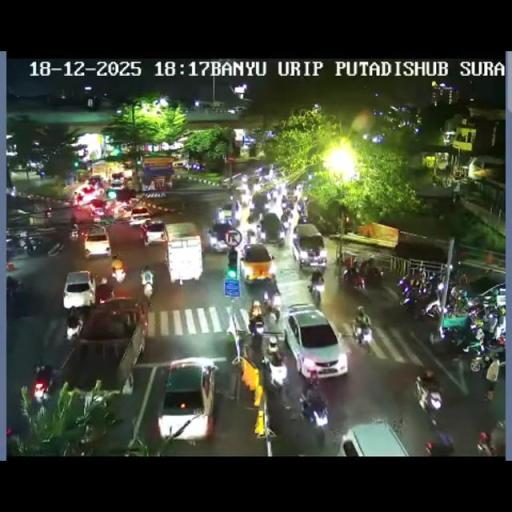Car: (67, 296, 147, 390), (156, 357, 216, 442), (282, 305, 348, 380), (335, 420, 412, 455), (164, 224, 202, 282), (290, 224, 325, 270), (239, 242, 276, 284), (62, 270, 96, 310), (142, 192, 186, 214), (31, 364, 56, 402), (207, 221, 236, 252), (82, 226, 110, 258), (142, 219, 168, 245), (108, 187, 138, 208), (216, 200, 236, 226), (129, 206, 152, 224), (89, 198, 108, 216), (285, 192, 298, 208), (88, 174, 102, 188), (172, 160, 188, 169), (110, 177, 123, 188)
Motorcycle: (435, 314, 476, 358), (400, 278, 438, 320), (465, 334, 504, 374), (463, 297, 503, 332), (300, 390, 330, 430), (414, 372, 442, 414), (278, 382, 304, 423), (64, 426, 94, 456), (424, 428, 456, 456), (262, 357, 286, 394), (351, 318, 374, 351), (342, 265, 365, 292), (447, 286, 469, 314), (234, 329, 252, 363), (307, 278, 324, 306), (6, 276, 22, 304), (489, 426, 505, 454), (94, 283, 114, 305), (6, 429, 22, 456), (248, 314, 265, 338), (408, 265, 425, 289), (66, 318, 82, 343), (266, 300, 282, 325), (6, 235, 23, 257), (452, 269, 470, 289), (306, 365, 321, 389), (24, 235, 40, 255), (142, 278, 154, 304), (472, 324, 486, 346), (279, 206, 293, 227), (246, 207, 262, 225), (238, 190, 252, 210), (112, 264, 126, 282), (267, 187, 281, 202), (343, 254, 355, 270), (246, 229, 257, 244), (68, 226, 78, 242), (255, 222, 263, 240), (275, 234, 285, 247), (298, 213, 308, 225), (221, 179, 230, 192)
